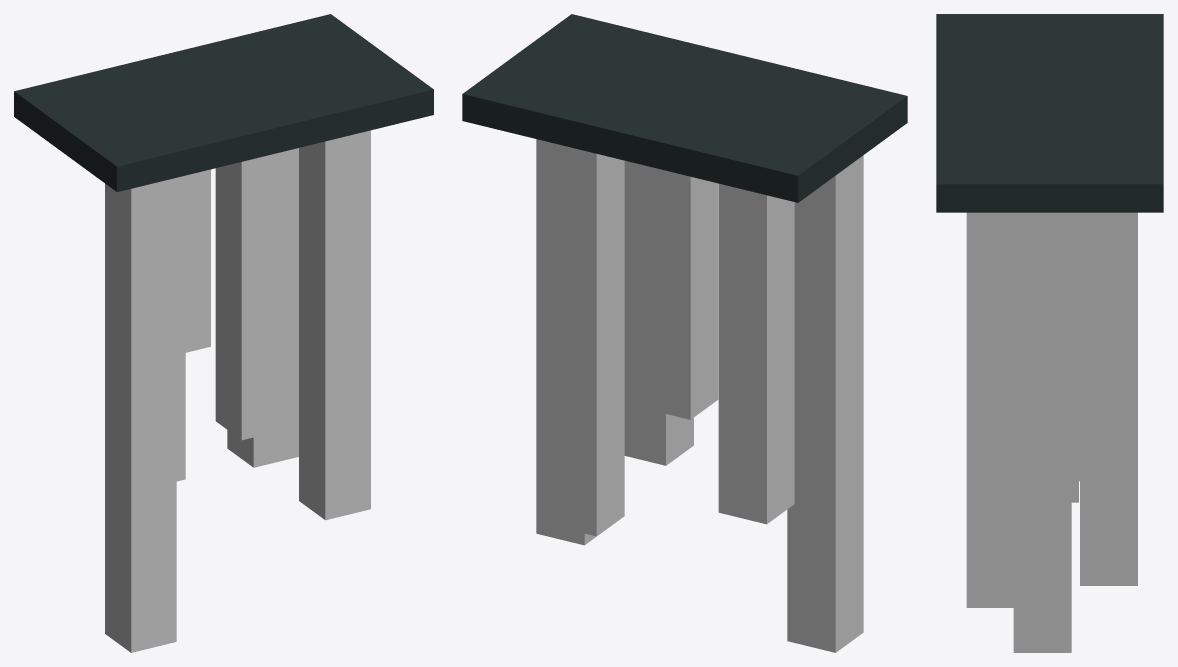
The model's file is Roof Light.fbx.
3 renders of one model, left to right at view 1: azimuth 30°, elevation 25°; view 2: azimuth 150°, elevation 25°; view 3: azimuth 270°, elevation 25°, orthographic. The views are drawn at different scales.
Parts seen in each view (by area): view 1: Roof Light; view 2: Roof Light; view 3: Roof Light.
Boxes of the visible parts, x1,y1,x2,y2 form: Roof Light: (14,14,433,652); Roof Light: (462,14,907,652); Roof Light: (936,14,1163,652).
Bounding box in the file's own units: 177 × 269 × 100.
